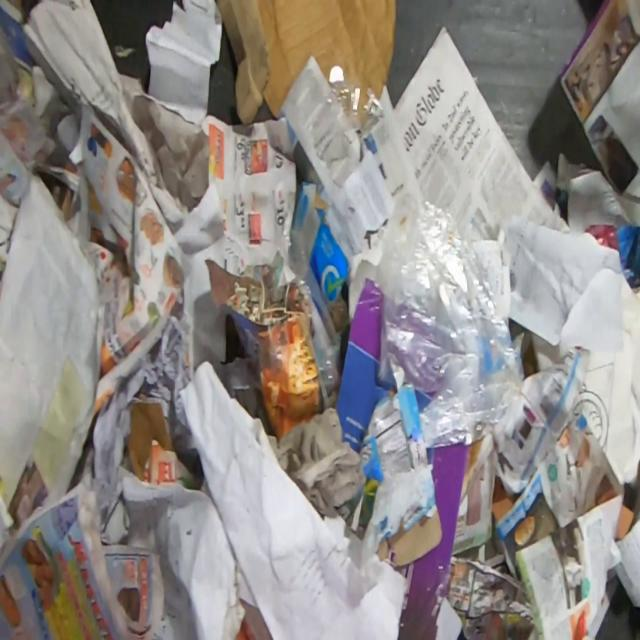cardboard: (203, 258, 328, 446), (213, 0, 398, 125), (359, 363, 444, 566), (389, 444, 469, 640), (335, 257, 394, 456), (292, 180, 350, 334), (123, 401, 174, 480), (416, 390, 432, 412)
rigid_plastic: (307, 64, 385, 165)
soft_plastic: (378, 186, 526, 449), (271, 221, 341, 394)
